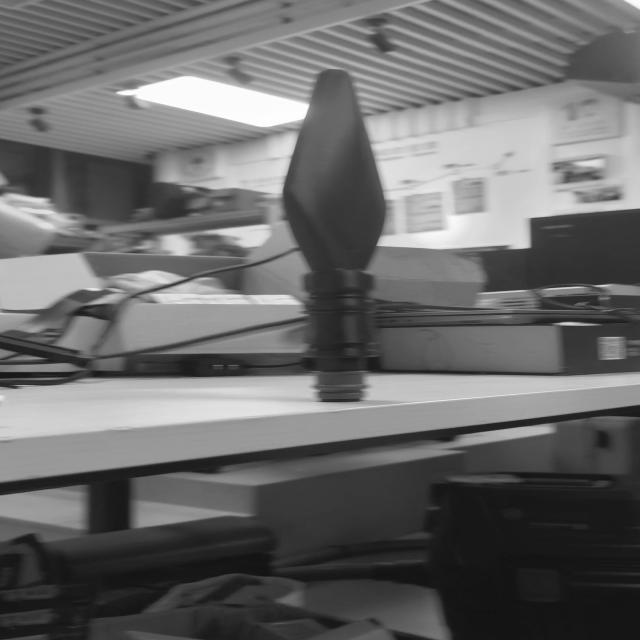base: (312, 367, 372, 402)
